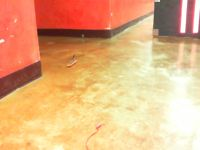switch: (180, 1, 187, 34), (192, 1, 199, 34)
